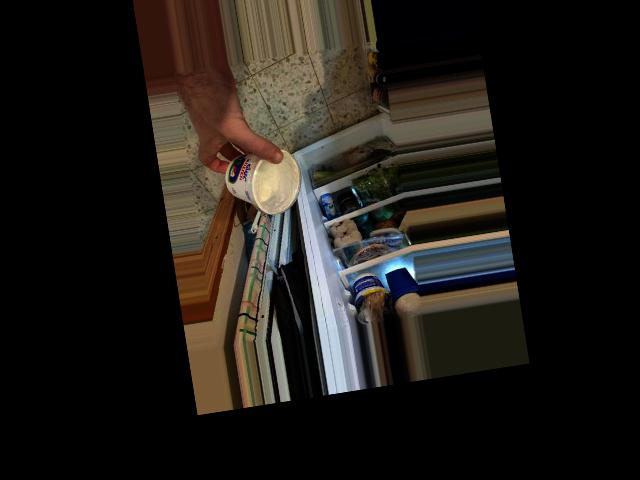cotage: (218, 138, 306, 229)
